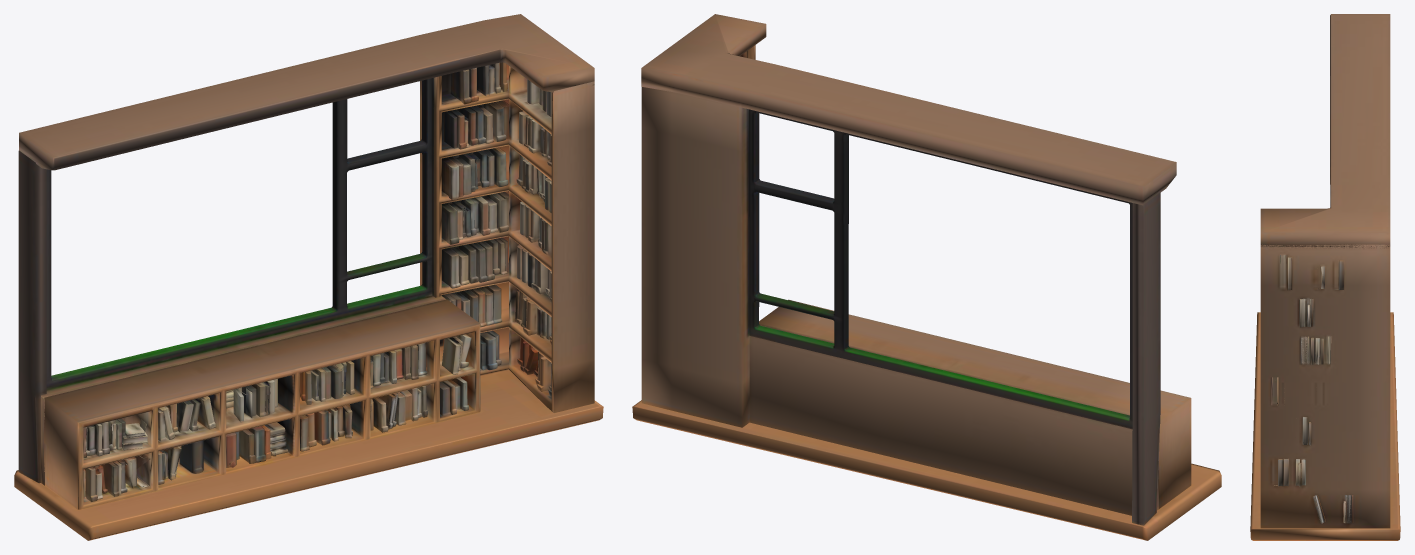
File: toonstudio_library_wall.glb
3 renders of one model, left to right at view 1: azimuth 30°, elevation 25°; view 2: azimuth 150°, elevation 25°; view 3: azimuth 270°, elevation 25°, orthographic. The views are drawn at different scales.
Parts seen in each view (by area): view 1: tripo_26320198_84b6_4068_b1b9_350c4da94536; view 2: tripo_26320198_84b6_4068_b1b9_350c4da94536; view 3: tripo_26320198_84b6_4068_b1b9_350c4da94536.
Boxes of the visible parts, x1,y1,x2,y2 form: tripo_26320198_84b6_4068_b1b9_350c4da94536: (14, 14, 603, 540); tripo_26320198_84b6_4068_b1b9_350c4da94536: (632, 14, 1221, 540); tripo_26320198_84b6_4068_b1b9_350c4da94536: (1250, 14, 1400, 540).
Size of the model in its own units: 4.2 by 2.78 by 1.22.
1 material, 1 textured.
